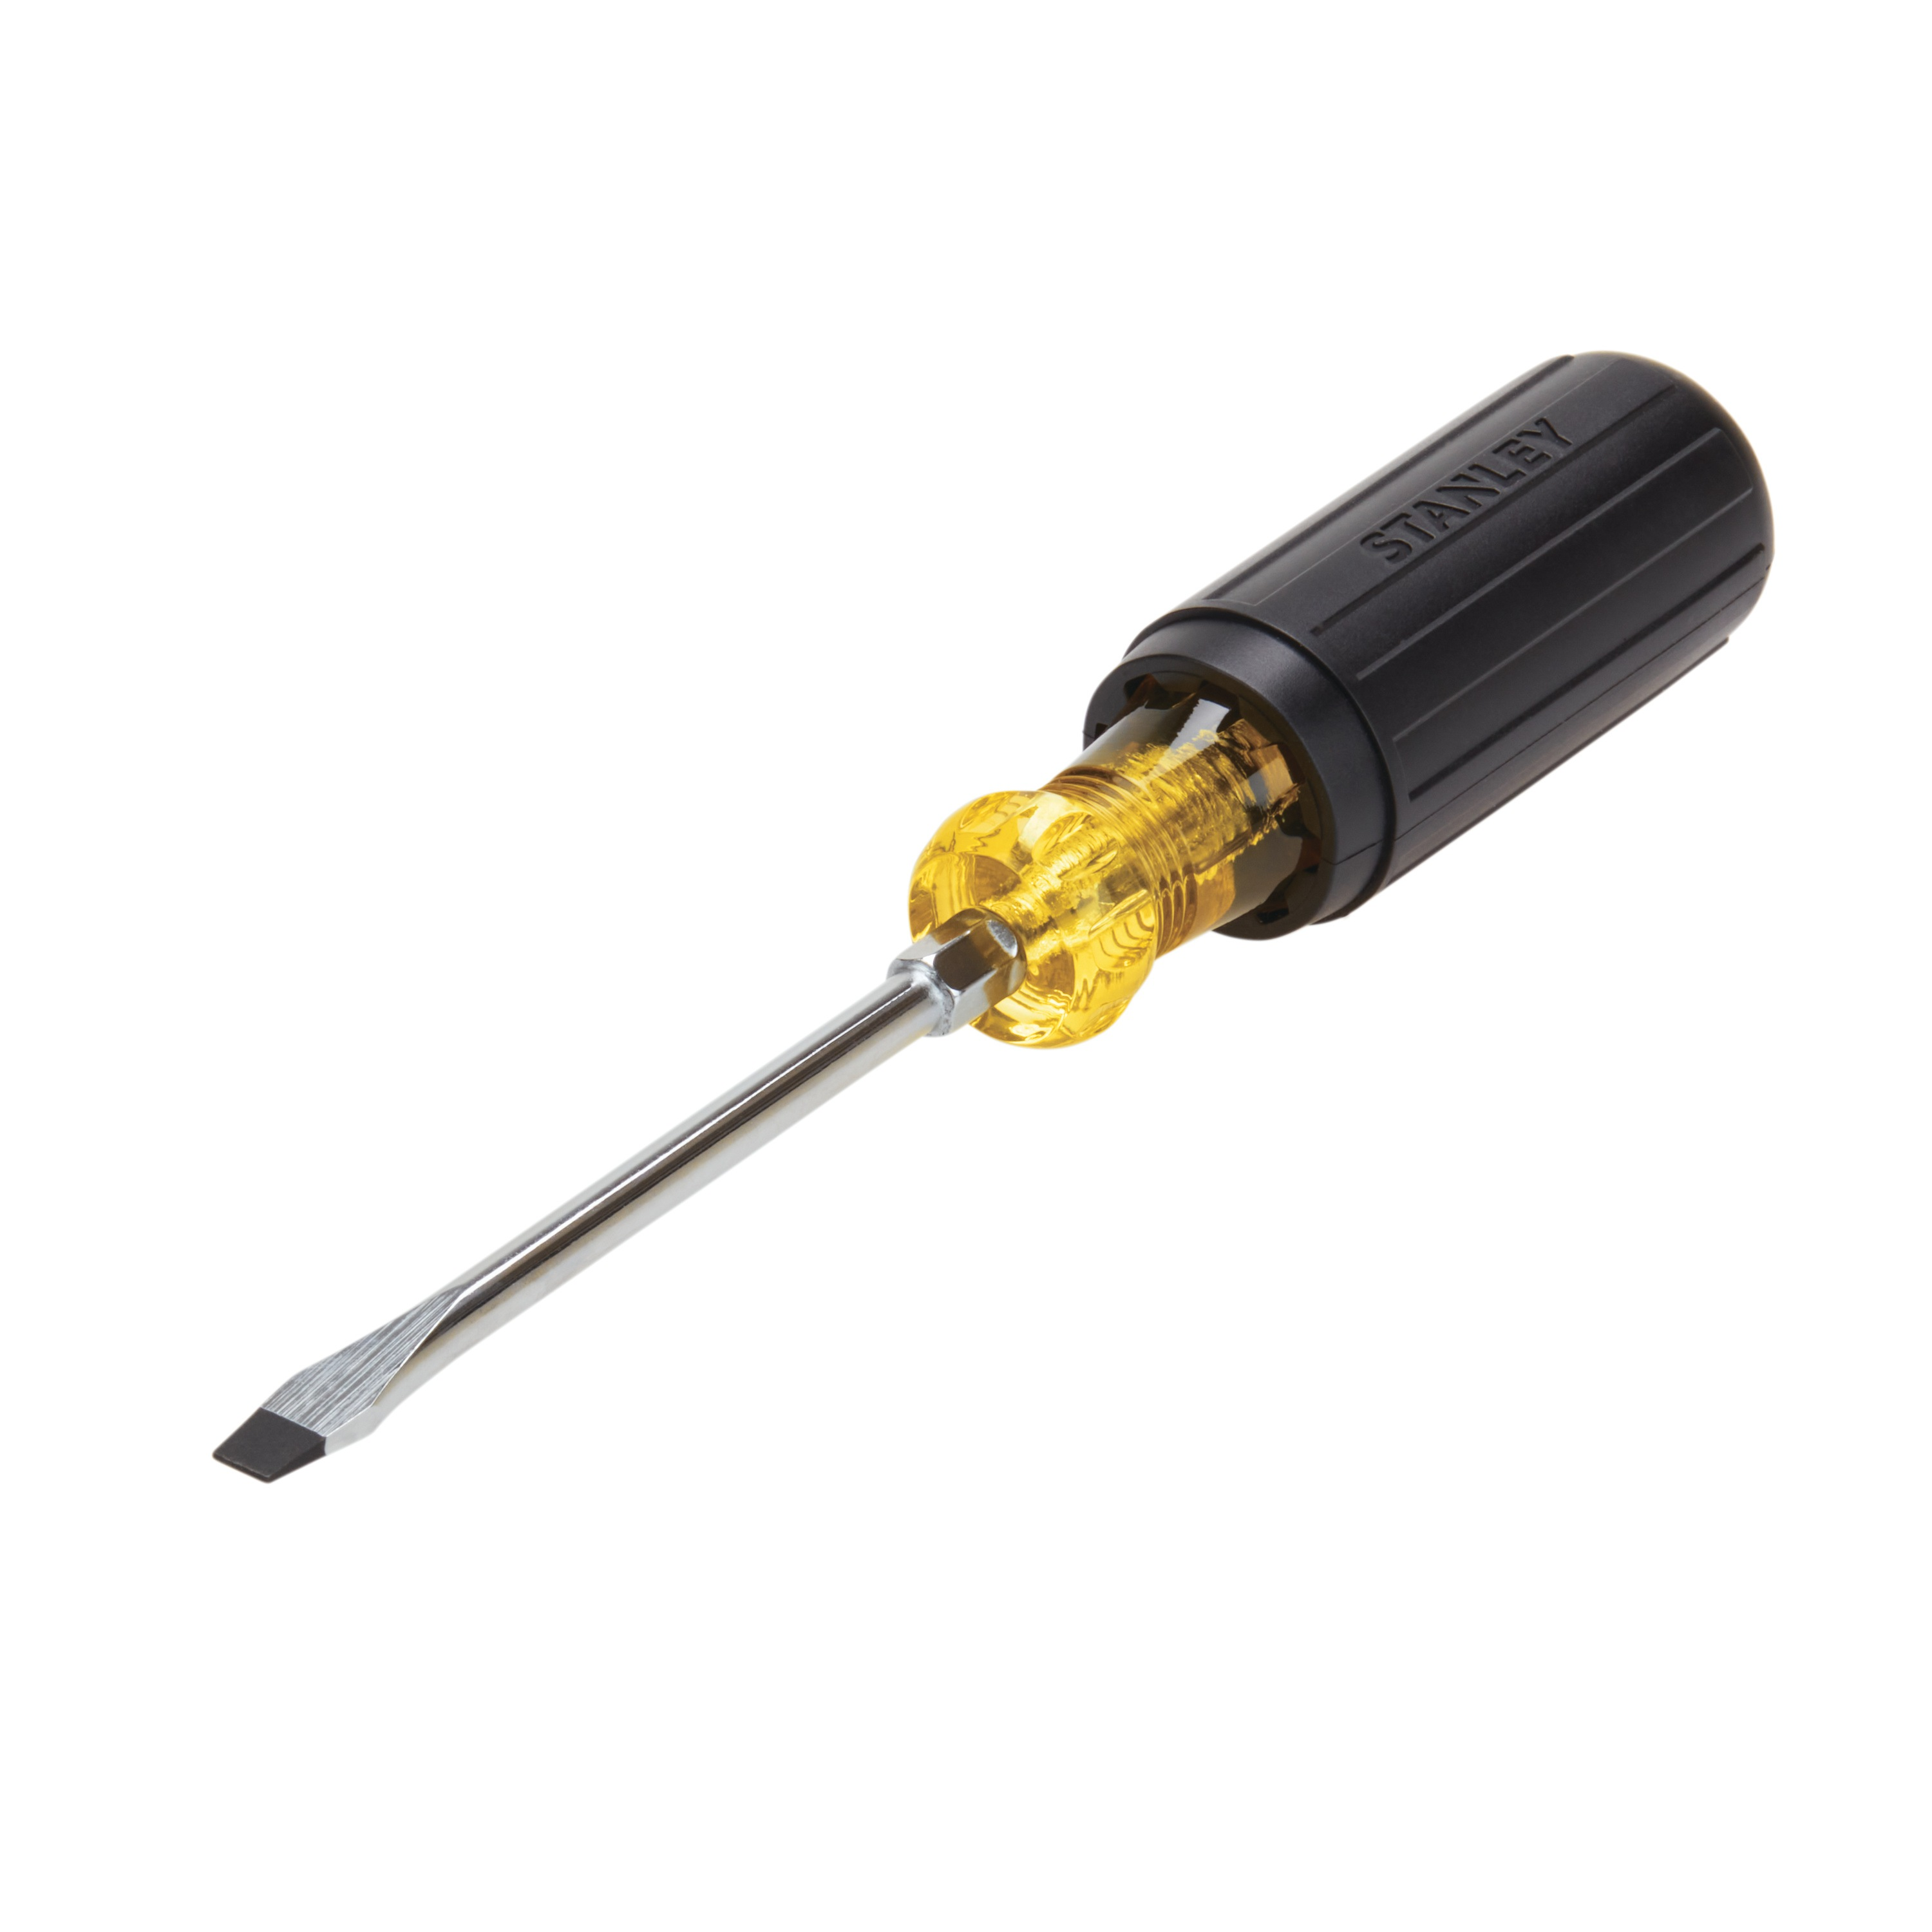screwdriver: (212, 345, 1778, 1486)
